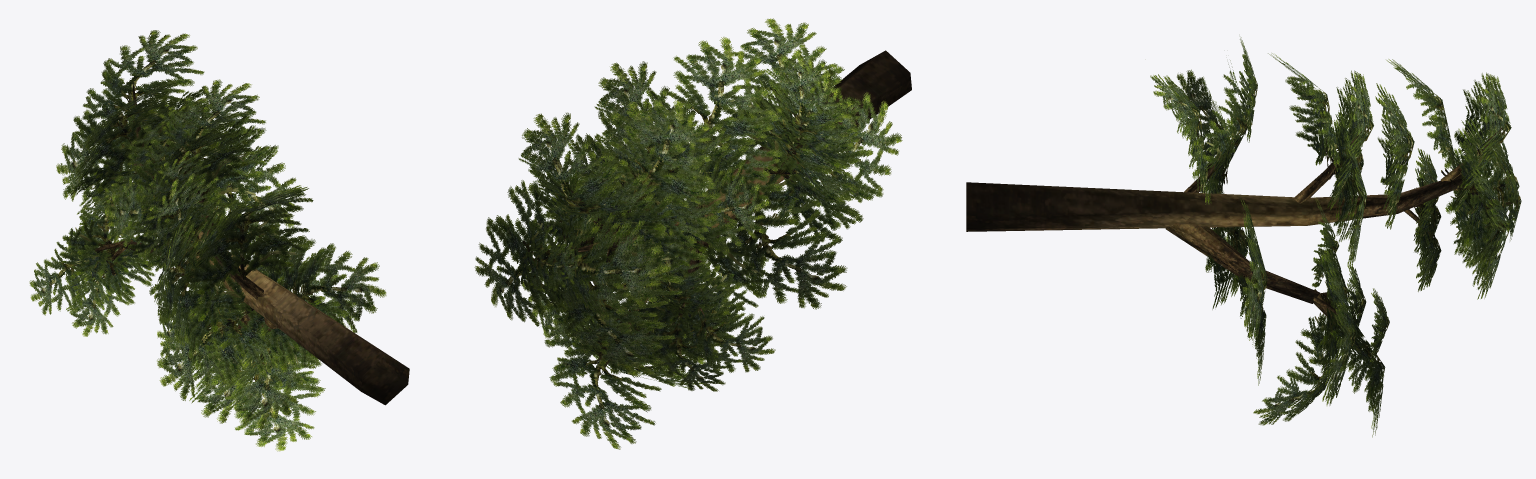
Rendered from cedar_atlas_2.glb.
3 renders of one model, left to right at view 1: azimuth 30°, elevation 25°; view 2: azimuth 150°, elevation 25°; view 3: azimuth 270°, elevation 25°, orthographic. The views are drawn at different scales.
Bounding box in the file's own units: 19.94 × 22.27 × 29.56.
Materials: 1 (1 with a texture image).
